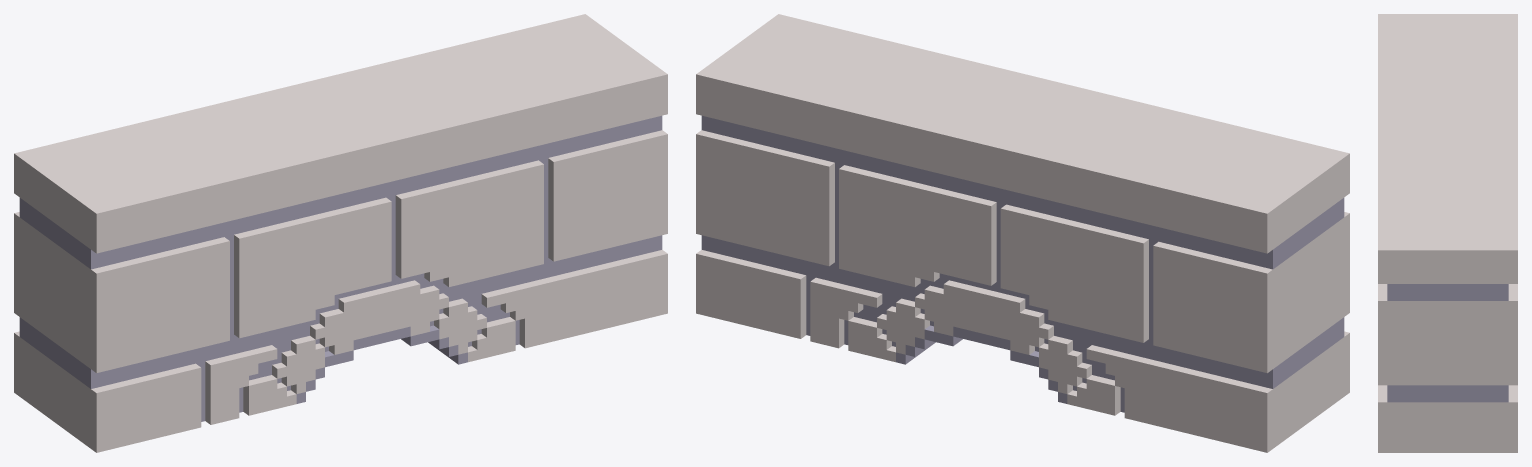
The model's file is WallDoorTop2.obj.
The picture shows the model from 3 angles, left to right: view 1: azimuth 30°, elevation 25°; view 2: azimuth 150°, elevation 25°; view 3: azimuth 270°, elevation 25°; orthographic projection. The views are drawn at different scales.
Bounding box in the file's own units: 6 × 2.4 × 1.5.
1 material, 1 textured.
